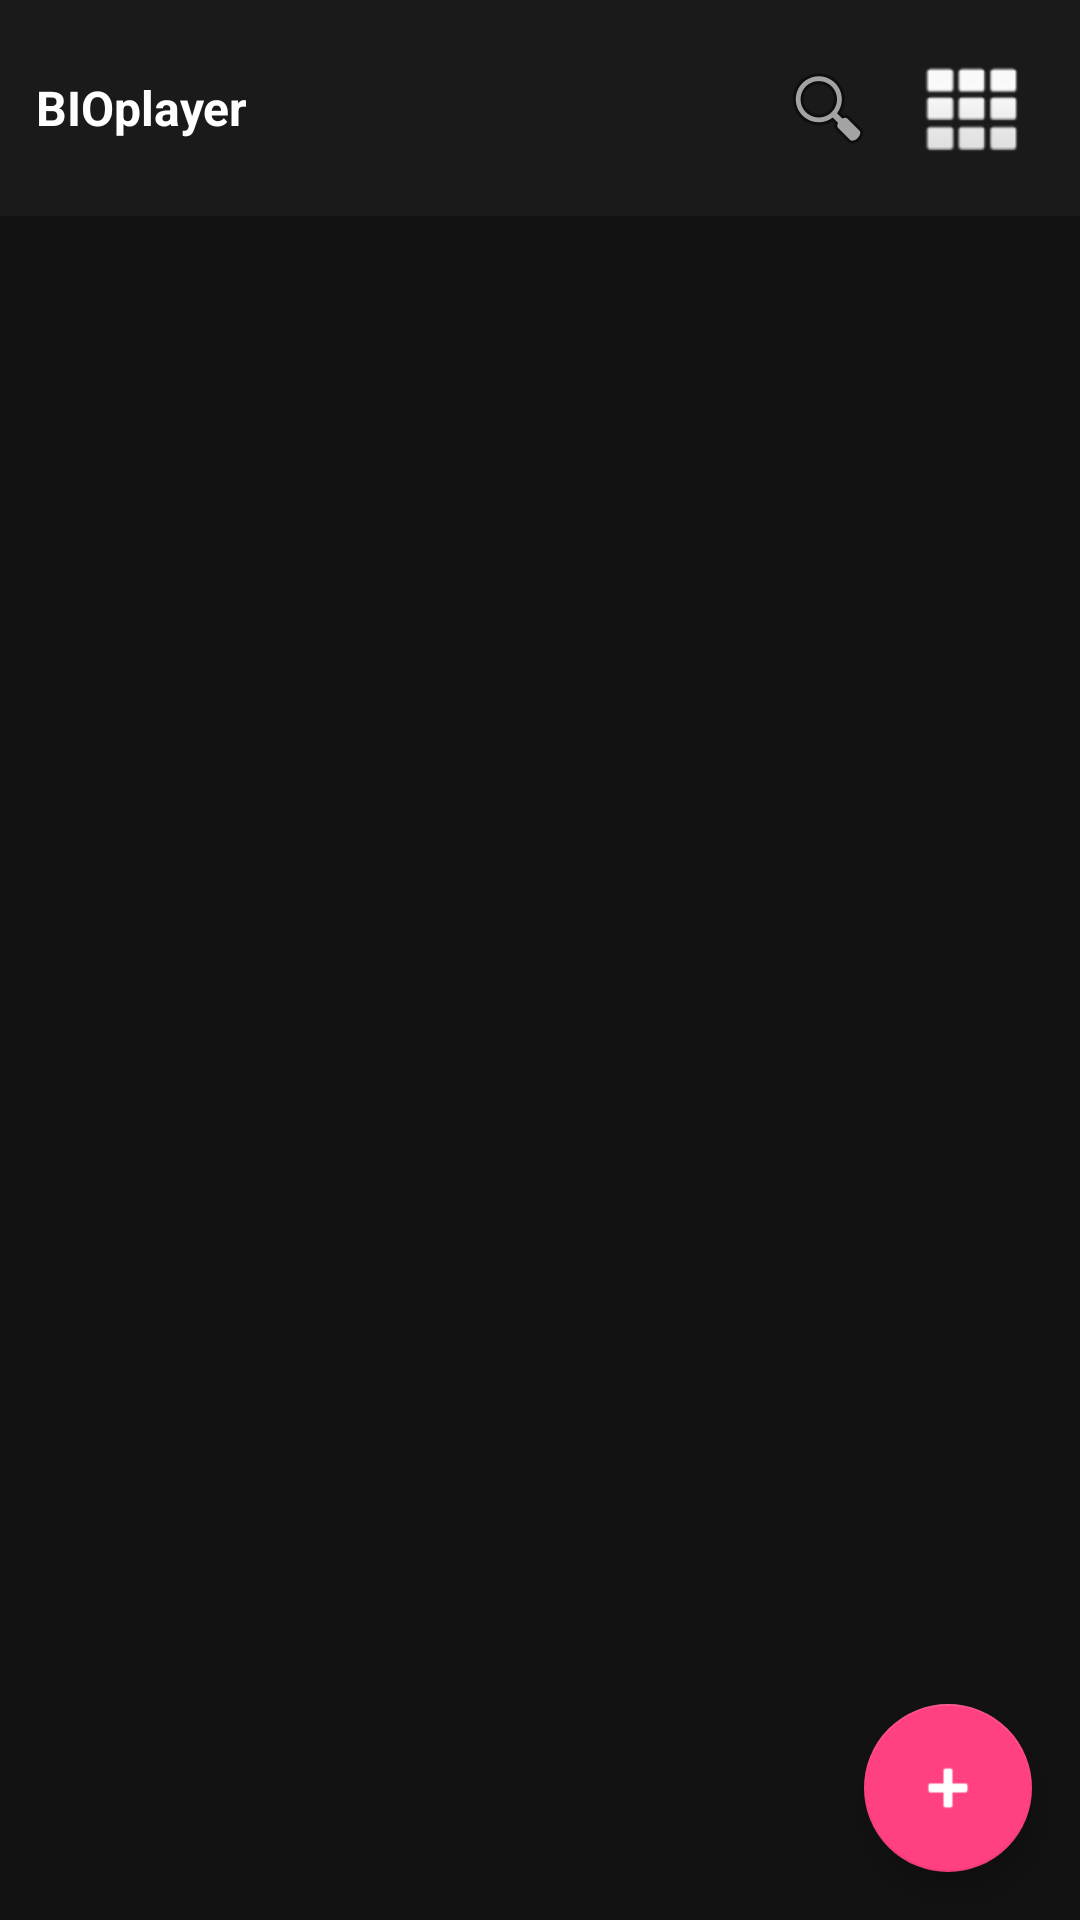

Icon click points for this 1080×1920 phone screenshot, format (x=x, y=y):
add: (x=948, y=1788)
ค้นหา: (x=828, y=108)
สลับมุมมอง: (x=971, y=109)
